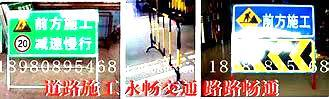sign: (233, 5, 316, 73), (9, 11, 97, 57)
